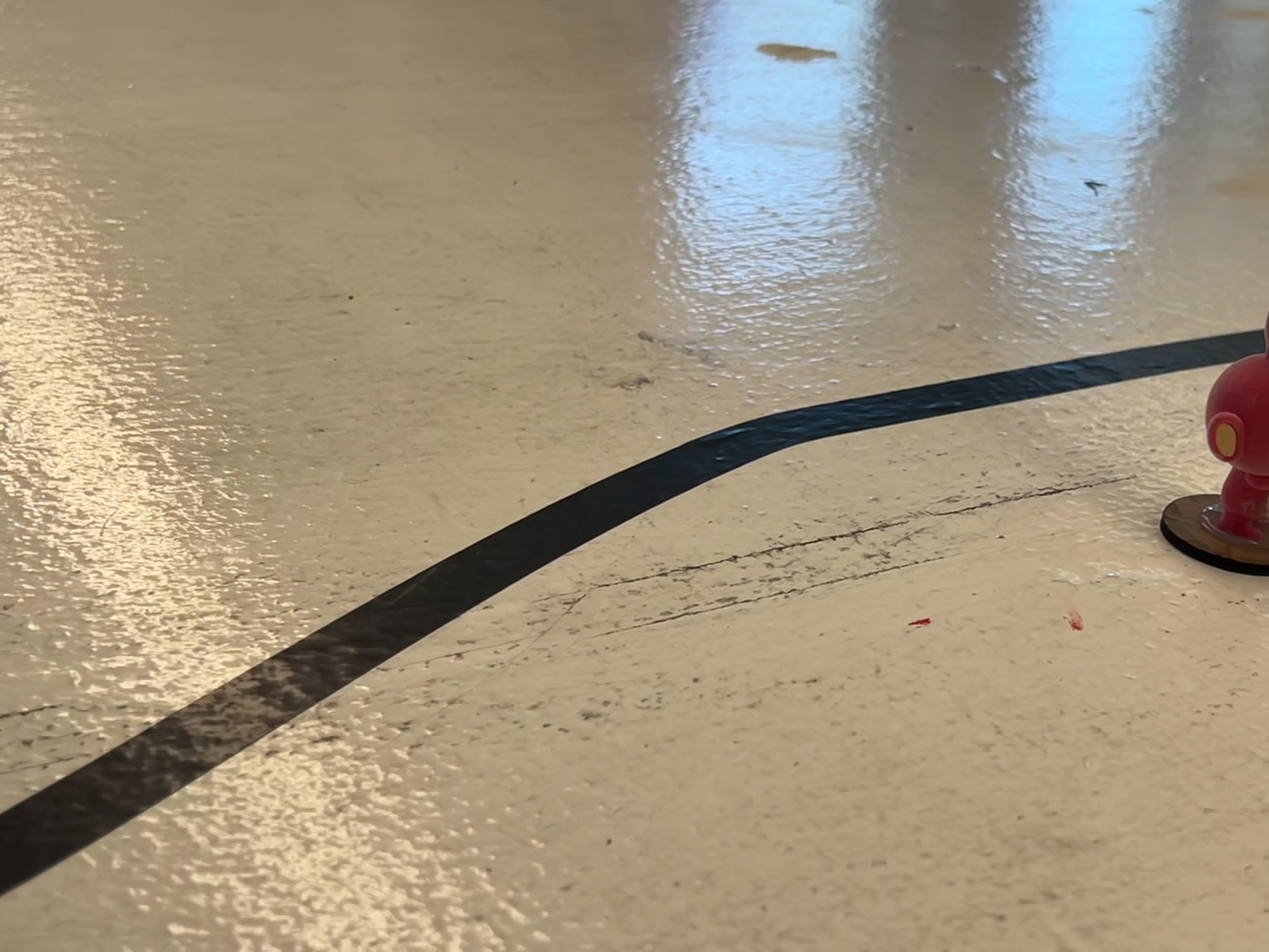teletubby: (1204, 316, 1268, 543)
